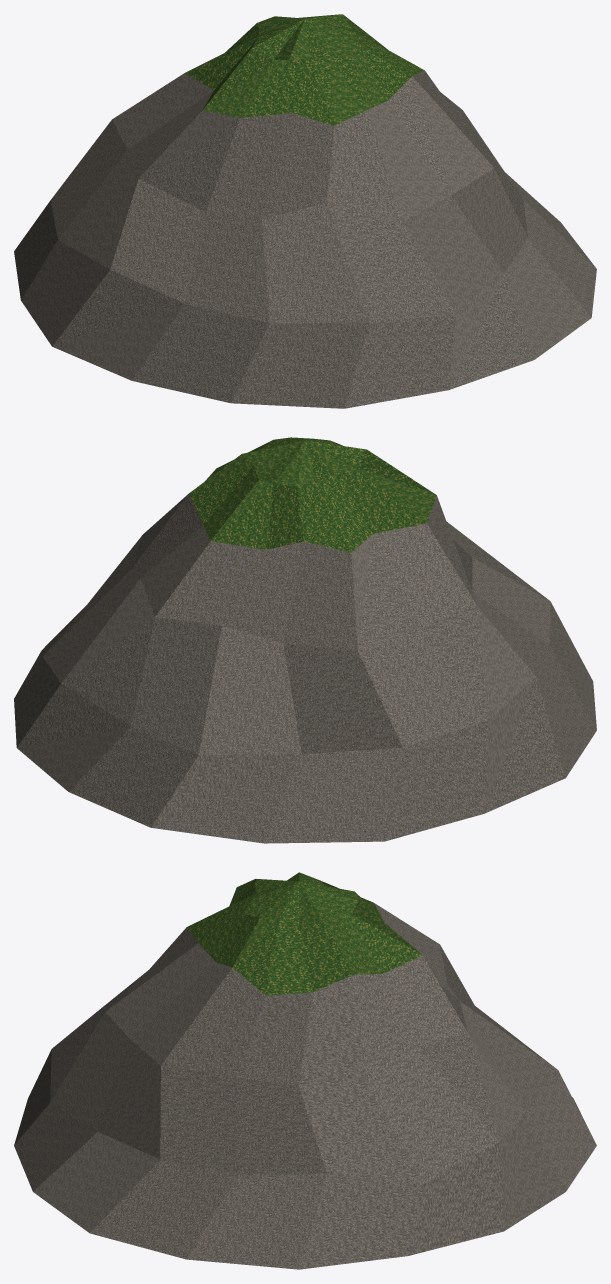
The model's file is terrain_hill_large.glb.
The picture shows the model from 3 angles, top to bottom: view 1: azimuth 30°, elevation 25°; view 2: azimuth 150°, elevation 25°; view 3: azimuth 270°, elevation 25°; orthographic projection. The views are drawn at different scales.
Visible parts, largest first — view 1: TerrainHillLarge; view 2: TerrainHillLarge; view 3: TerrainHillLarge.
Part boxes in pixels (left/top/right/bottom): TerrainHillLarge: left=14, top=14, right=596, bottom=408; TerrainHillLarge: left=14, top=437, right=596, bottom=843; TerrainHillLarge: left=14, top=872, right=596, bottom=1269.
Bounding box in the file's own units: 80 × 40 × 80.
Materials: 2 (2 with a texture image).
